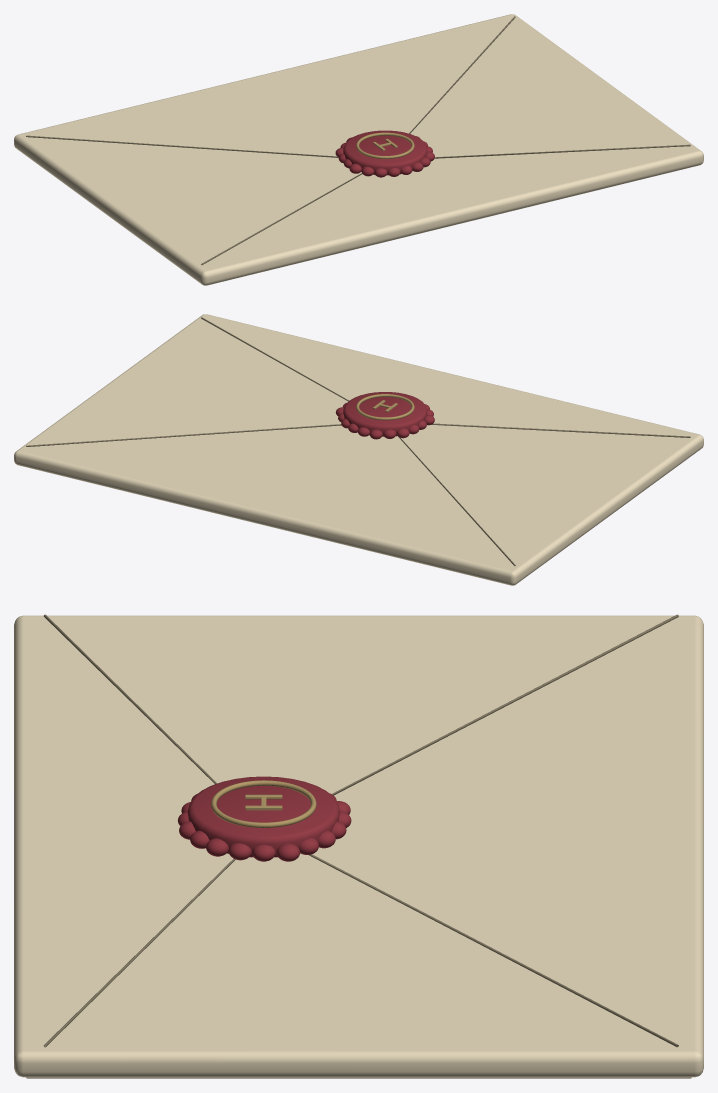
File: chapter-i-c8985c6c8a36.glb
The picture shows the model from 3 angles, top to bottom: view 1: azimuth 30°, elevation 25°; view 2: azimuth 150°, elevation 25°; view 3: azimuth 270°, elevation 25°; orthographic projection. The views are drawn at different scales.
Visible parts, largest first — view 1: Folded envelope shell, Pressed wax seal, Diagonal fold, Seal raised rim; view 2: Folded envelope shell, Pressed wax seal, Diagonal fold, Seal raised rim; view 3: Folded envelope shell, Pressed wax seal, Diagonal fold, Seal raised rim.
Part boxes in pixels (box(x1,y1,x2,y2)): Folded envelope shell: box(14, 14, 703, 285); Pressed wax seal: box(335, 130, 434, 177); Diagonal fold: box(26, 16, 690, 265); Seal raised rim: box(356, 132, 414, 158); Folded envelope shell: box(14, 314, 703, 585); Pressed wax seal: box(335, 392, 434, 439); Diagonal fold: box(26, 317, 690, 566); Seal raised rim: box(356, 394, 414, 420); Folded envelope shell: box(14, 615, 703, 1078); Pressed wax seal: box(177, 776, 351, 861); Diagonal fold: box(43, 614, 678, 1047); Seal raised rim: box(211, 780, 316, 827).
Size of the model in its own units: 2.2 by 0.1405 by 1.45.
